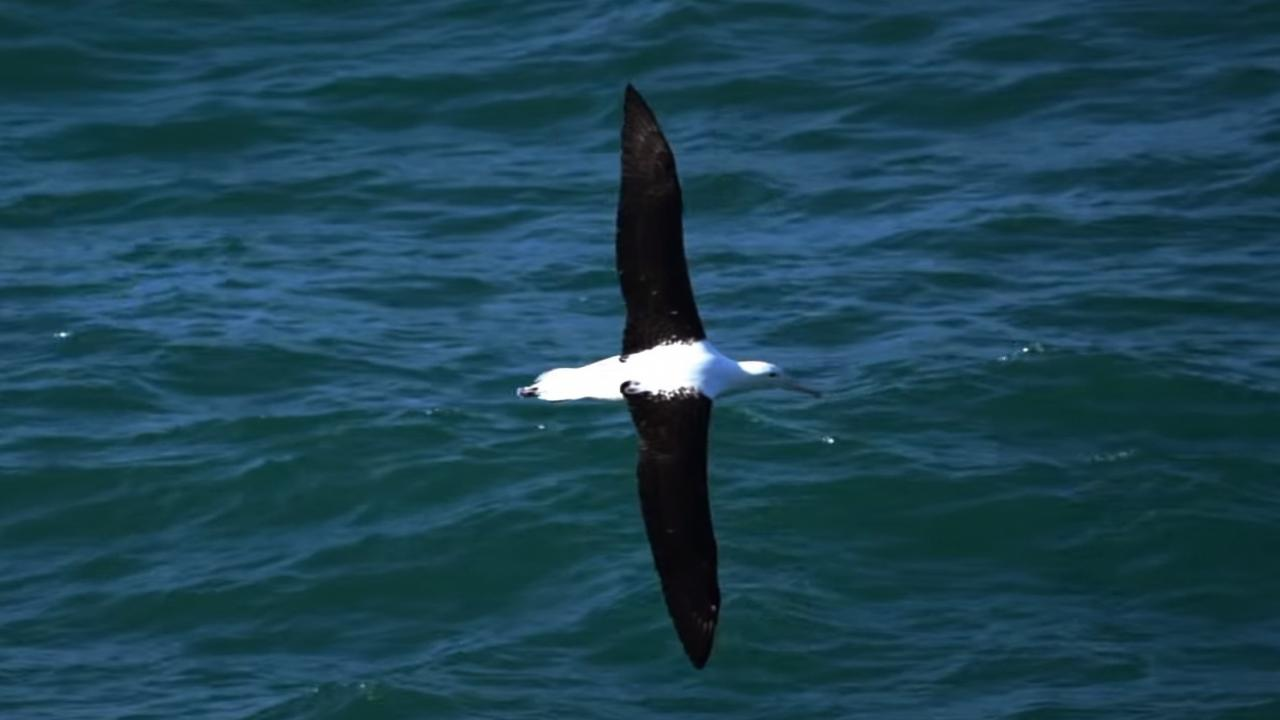Bird: (507, 77, 839, 682)
